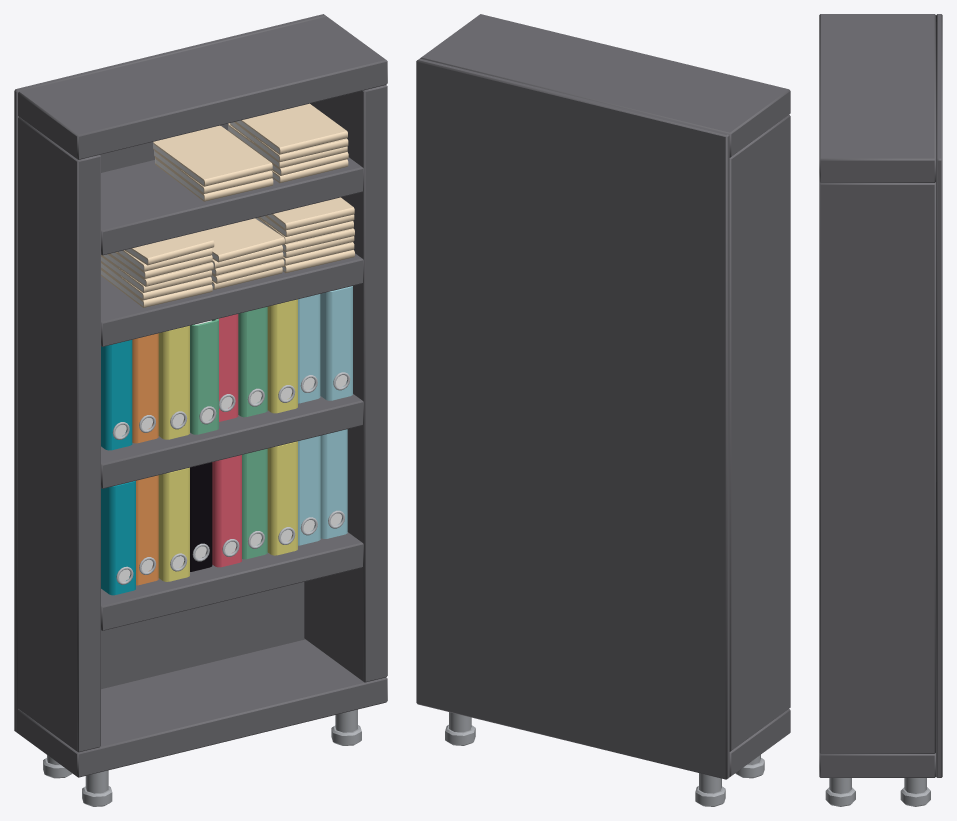
Rendered from Shelving_2.fbx.
3 renders of one model, left to right at view 1: azimuth 30°, elevation 25°; view 2: azimuth 150°, elevation 25°; view 3: azimuth 270°, elevation 25°, orthographic. The views are drawn at different scales.
Visible parts, largest first — view 1: Shelving_2; view 2: Shelving_2; view 3: Shelving_2.
Boxes of the visible parts, bbox=[...] form: Shelving_2: bbox=[14, 14, 387, 806]; Shelving_2: bbox=[416, 14, 790, 806]; Shelving_2: bbox=[819, 14, 942, 806].
Bounding box in the file's own units: 1.03 × 2.17 × 0.3699.
